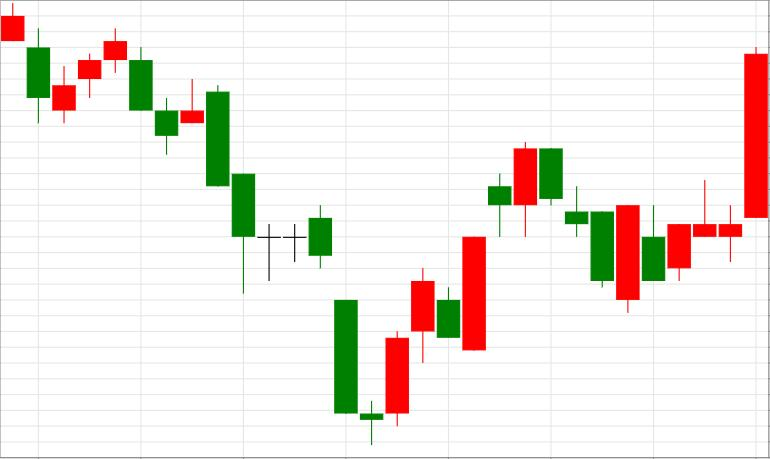morning_star_rise: (207, 84, 409, 444)
